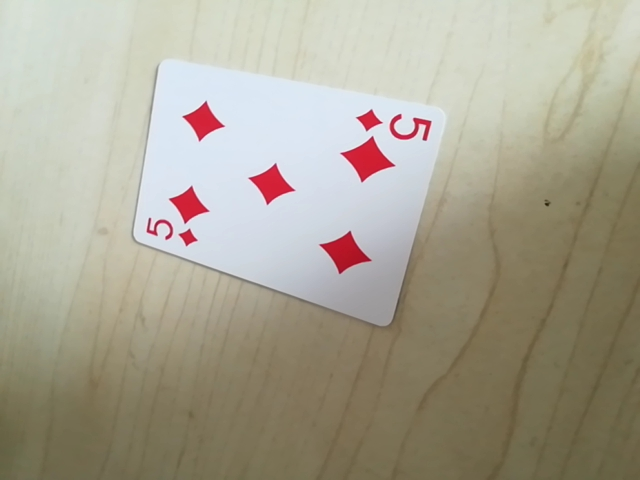fk 5: (351, 103, 437, 142), (141, 215, 204, 250)
